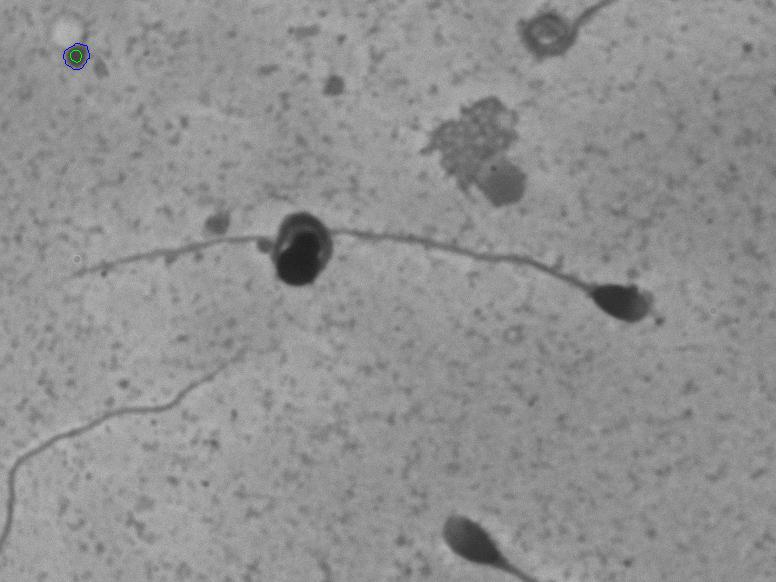Normal: (48, 223, 655, 332)
